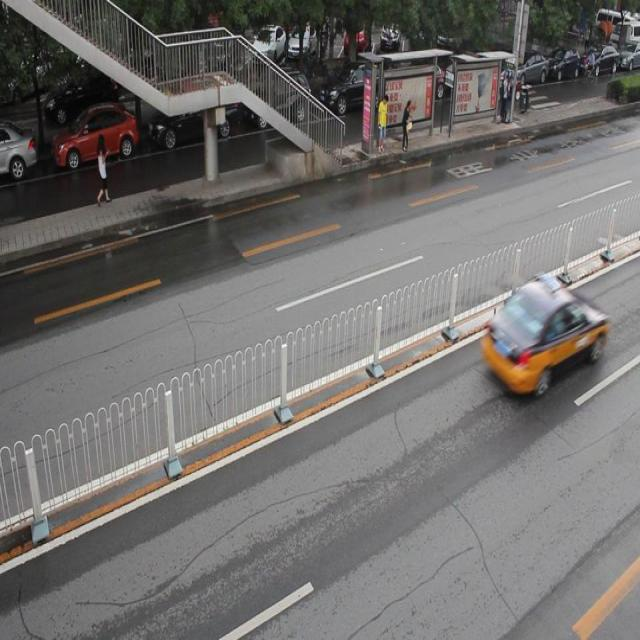car: (481, 273, 606, 398), (48, 105, 136, 172), (143, 91, 236, 145), (314, 61, 390, 119), (240, 72, 309, 132), (1, 125, 37, 182)
